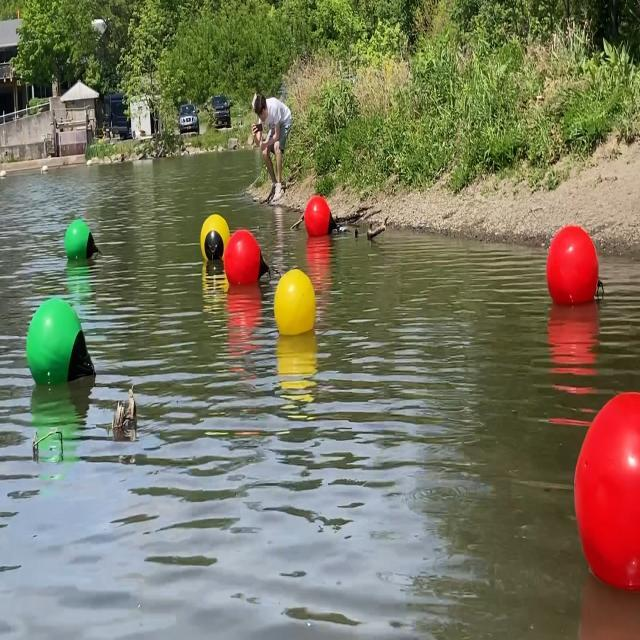buoy: (576, 386, 640, 592), (26, 298, 94, 390), (548, 224, 598, 301), (274, 268, 316, 336), (224, 228, 270, 282), (64, 217, 100, 259), (201, 215, 230, 262), (304, 198, 336, 235)
